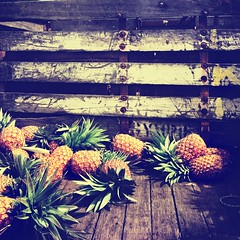Pineapple: (41, 121, 104, 182), (153, 153, 231, 184), (150, 130, 208, 166)
